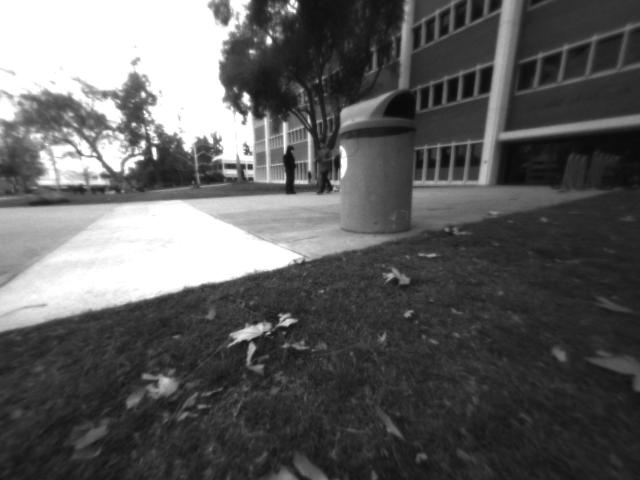trashcan: (320, 81, 425, 241)
